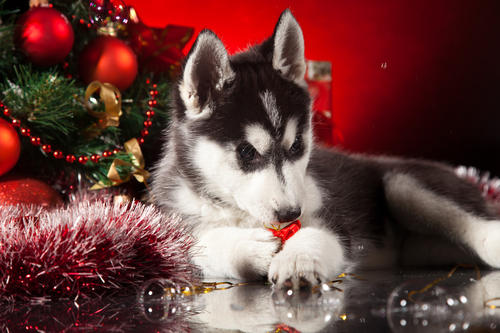dog: (169, 9, 333, 217)
